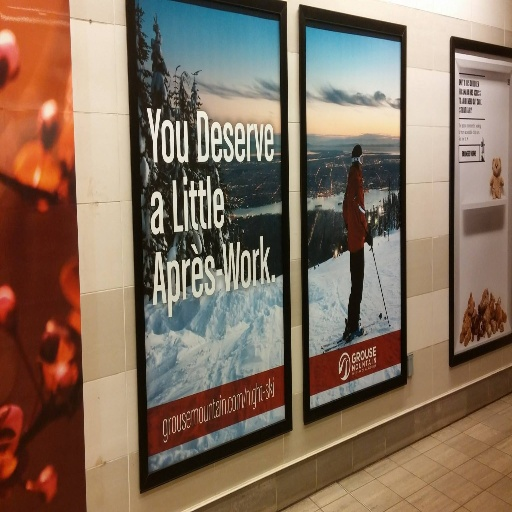hand: (367, 231, 372, 245)
